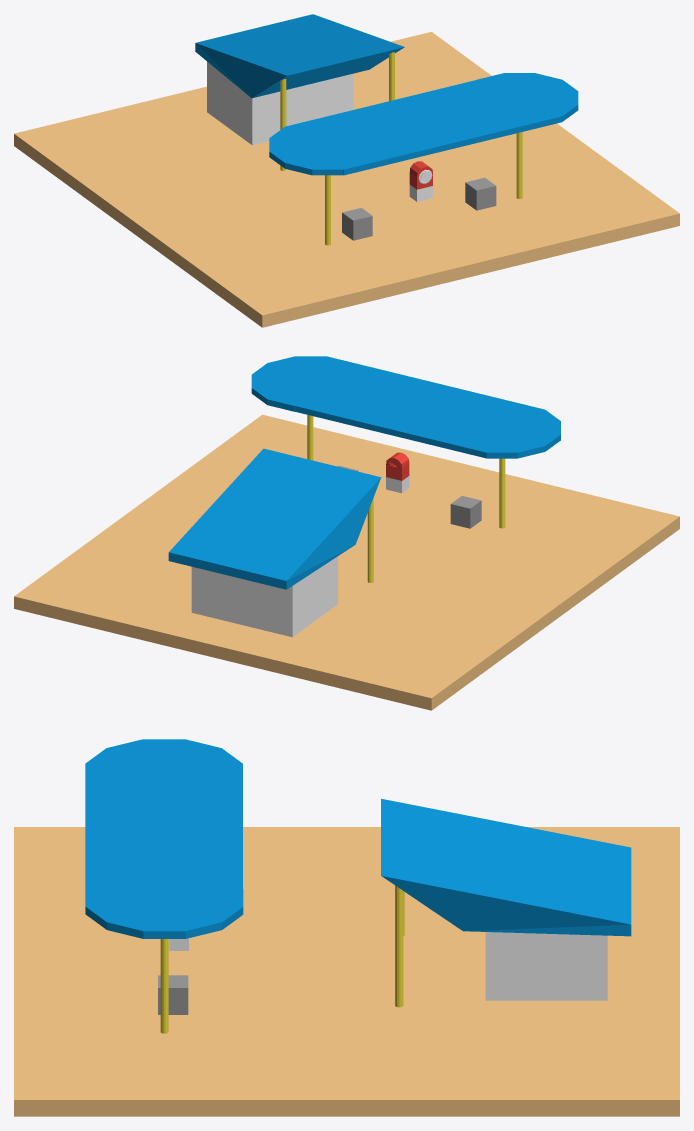
Rendered from gas station ultra low.fbx.
The picture shows the model from 3 angles, top to bottom: view 1: azimuth 30°, elevation 25°; view 2: azimuth 150°, elevation 25°; view 3: azimuth 270°, elevation 25°; orthographic projection. The views are drawn at different scales.
Parts seen in each view (by area): view 1: mesh_1925552818, mesh_1748379796, mesh_1430858848, mesh_323158288, mesh_461461733, mesh_1969115048, mesh_67792085, mesh_1967724036; view 2: mesh_1925552818, mesh_1430858848, mesh_1748379796, mesh_323158288, mesh_461461733, mesh_1969115048, mesh_1967724036, mesh_235555394; view 3: mesh_1925552818, mesh_1430858848, mesh_1748379796, mesh_461461733, mesh_323158288, mesh_1969115048, mesh_1145935014, mesh_67792085, mesh_1363798087.
Part boxes in pixels (x1,y1,x2,y2): mesh_1925552818: (14,32,679,327); mesh_1748379796: (285,73,562,175); mesh_1430858848: (195,14,404,98); mesh_323158288: (207,61,353,145); mesh_461461733: (461,73,578,122); mesh_1969115048: (269,127,343,175); mesh_67792085: (465,177,496,210); mesh_1967724036: (342,207,372,240); mesh_1925552818: (14,414,679,710); mesh_1430858848: (168,448,381,589); mesh_1748379796: (268,356,544,458); mesh_323158288: (191,556,337,637); mesh_461461733: (251,356,368,411); mesh_1969115048: (486,410,560,458); mesh_1967724036: (450,496,481,528); mesh_235555394: (367,498,373,582); mesh_1925552818: (14,827,679,1116); mesh_1430858848: (381,798,631,936); mesh_1748379796: (85,763,242,914); mesh_461461733: (86,864,243,938); mesh_323158288: (485,932,607,1000); mesh_1969115048: (86,739,242,763); mesh_1145935014: (395,885,403,1007); mesh_67792085: (158,975,188,1014); mesh_1363798087: (160,939,168,1033).
Bounding box in the file's own units: 599 × 154 × 617.
